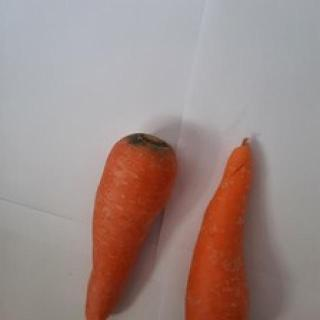carrot: (178, 131, 269, 320), (86, 132, 176, 320)
